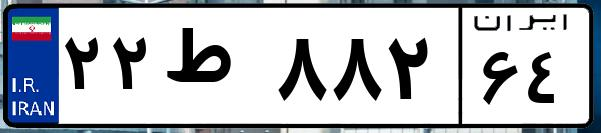2: (385, 28, 445, 110), (57, 26, 110, 100), (110, 28, 158, 98)
4: (525, 38, 570, 115)
6: (475, 38, 525, 113)
8: (270, 28, 330, 110), (330, 28, 385, 110)
ط: (158, 20, 270, 120)
